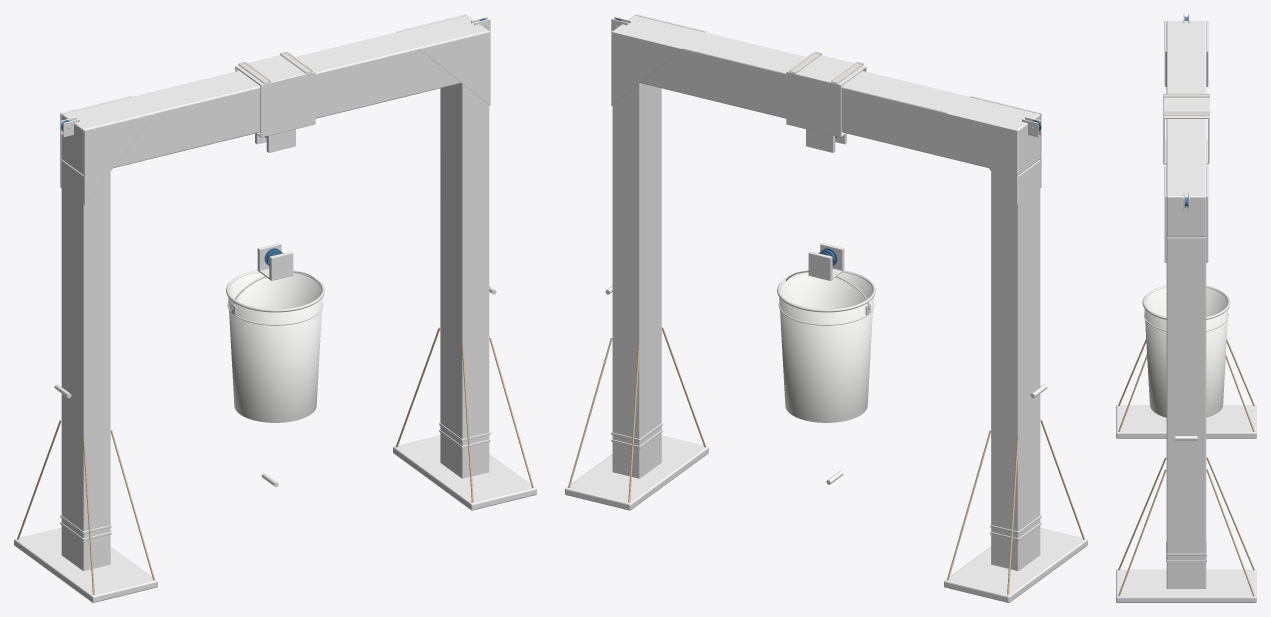
File: portique.glb
The picture shows the model from 3 angles, left to right: view 1: azimuth 30°, elevation 25°; view 2: azimuth 150°, elevation 25°; view 3: azimuth 270°, elevation 25°; orthographic projection. The views are drawn at different scales.
Visible parts, largest first — view 1: Poutre, Pied_G, Pied_D, Seau, Chariot_corps, Socle_D, Socle_G, Equerres_G, Equerres_D, Tiges_G, Tiges_D, Support_bas; view 2: Poutre, Pied_G, Pied_D, Seau, Chariot_corps, Socle_D, Socle_G, Equerres_G, Equerres_D, Tiges_G, Tiges_D, Support_bas; view 3: Pied_D, Poutre, Seau, Socle_D, Socle_G, Chariot_corps, Tiges_D, Tiges_G, Equerres_D, Equerres_G.
Boxes of the visible parts, box(x1,y1,x2,y2) form: Poutre: box(61, 15, 488, 174); Pied_G: box(60, 160, 111, 570); Pied_D: box(439, 83, 490, 478); Seau: box(226, 270, 324, 422); Chariot_corps: box(235, 51, 315, 137); Socle_D: box(393, 435, 536, 510); Socle_G: box(14, 527, 157, 602); Equerres_G: box(60, 95, 155, 204); Equerres_D: box(395, 14, 490, 105); Tiges_G: box(17, 419, 154, 594); Tiges_D: box(395, 327, 533, 502); Support_bas: box(257, 243, 293, 280); Poutre: box(613, 15, 1040, 174); Pied_G: box(990, 160, 1041, 570); Pied_D: box(611, 83, 662, 478); Seau: box(777, 270, 875, 422); Chariot_corps: box(786, 51, 866, 137); Socle_D: box(565, 435, 708, 510); Socle_G: box(944, 527, 1087, 602); Equerres_G: box(946, 95, 1041, 204); Equerres_D: box(611, 14, 706, 105); Tiges_G: box(947, 419, 1084, 594); Tiges_D: box(568, 327, 706, 502); Support_bas: box(808, 243, 844, 280); Pied_D: box(1166, 236, 1206, 588); Poutre: box(1166, 21, 1206, 237); Seau: box(1142, 285, 1230, 417); Socle_D: box(1116, 569, 1256, 602); Socle_G: box(1116, 405, 1256, 438); Chariot_corps: box(1163, 93, 1209, 164); Tiges_D: box(1118, 457, 1254, 596); Tiges_G: box(1118, 338, 1254, 431); Equerres_D: box(1164, 166, 1208, 262); Equerres_G: box(1164, 20, 1208, 86).
Size of the model in its own units: 0.81 by 0.789 by 0.25.
